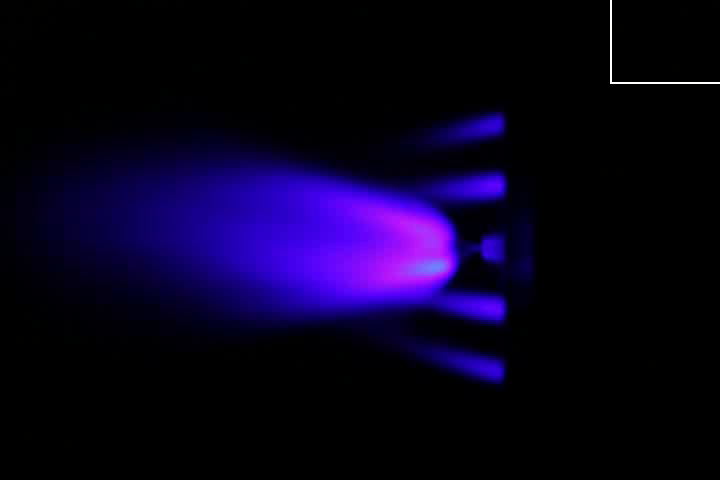burner cap: (476, 234, 504, 261)
pilot flame: (408, 338, 509, 386), (421, 172, 508, 204), (435, 290, 505, 322), (440, 113, 507, 140)
unstable: (334, 194, 477, 296)
